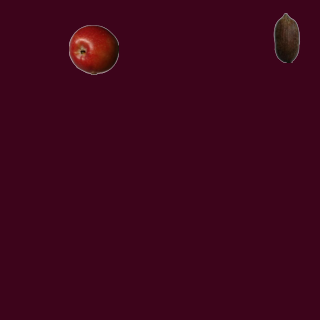Apple Braeburn: (68, 24, 118, 74)
Nut Pecan: (261, 12, 311, 62)
